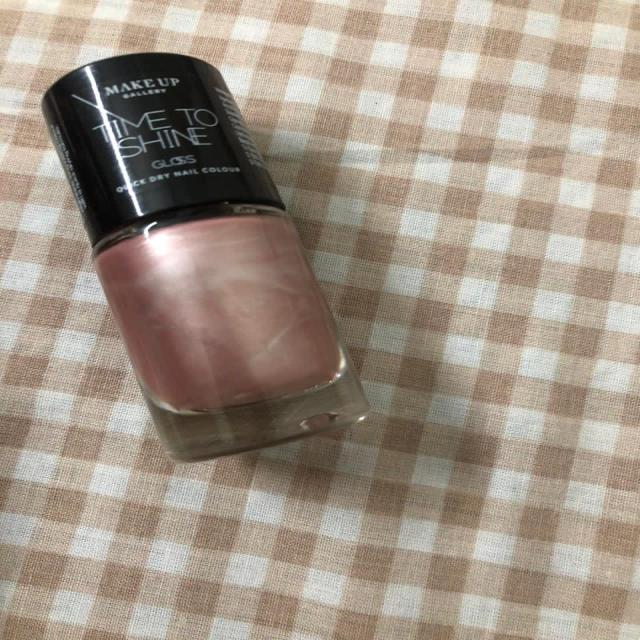nail polish: (48, 82, 370, 449)
